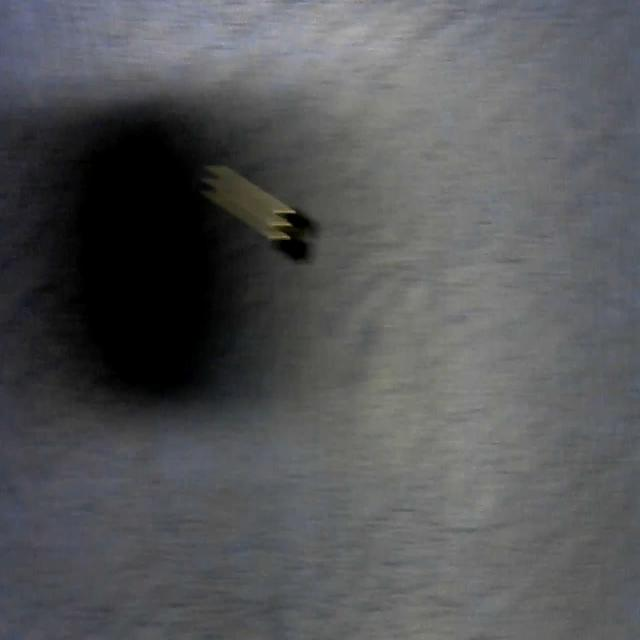BJT: (202, 155, 313, 266)
